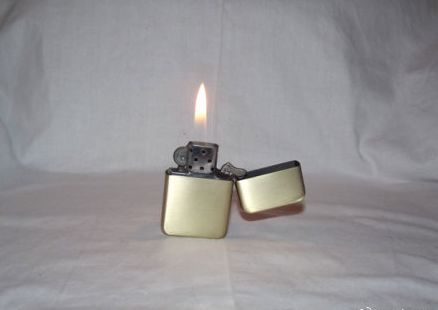fire: (169, 66, 226, 152)
